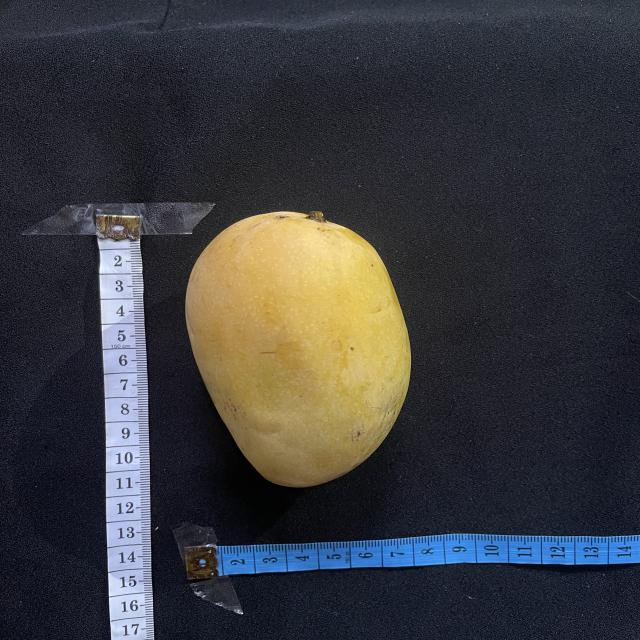Ripe: (186, 211, 411, 487)
